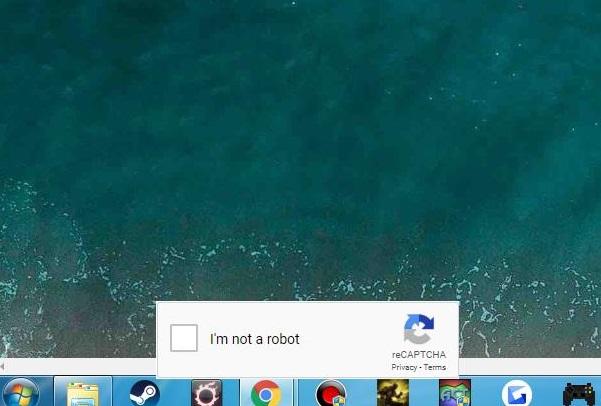captcha: (170, 324, 301, 352)
